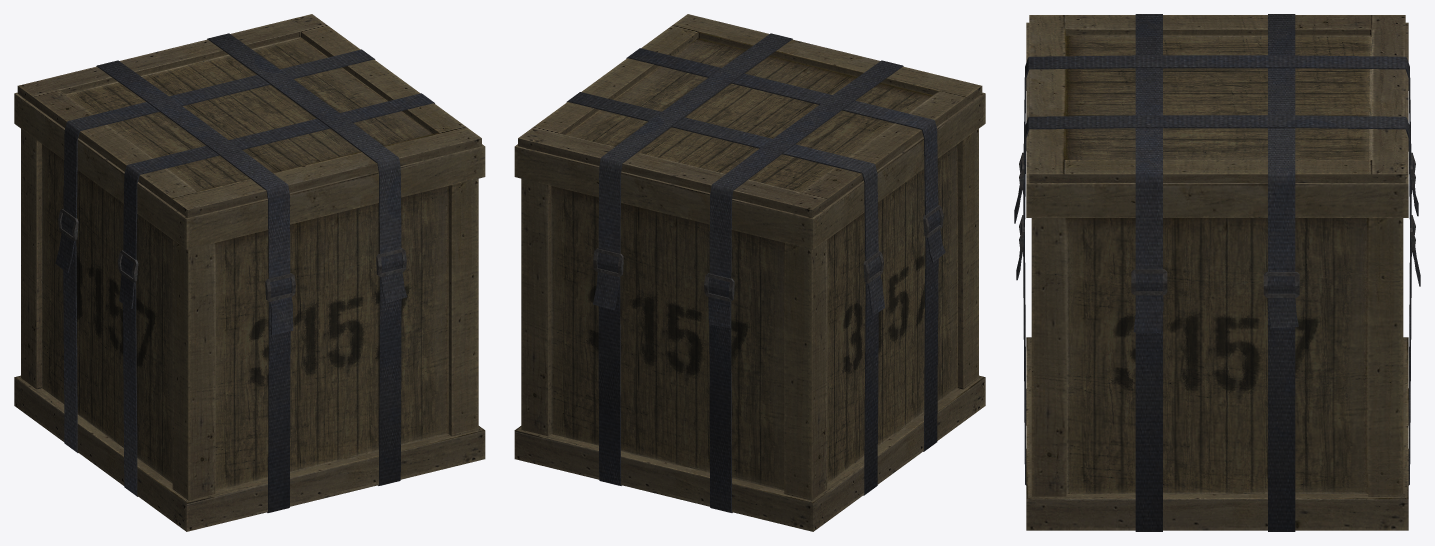
Rendered from wooden_crate_hx_5.obj.
3 renders of one model, left to right at view 1: azimuth 30°, elevation 25°; view 2: azimuth 150°, elevation 25°; view 3: azimuth 270°, elevation 25°, orthographic. The views are drawn at different scales.
Visible parts, largest first — view 1: wooden_crate_hx_5; view 2: wooden_crate_hx_5; view 3: wooden_crate_hx_5.
Part boxes in pixels (x1,y1,x2,y2): wooden_crate_hx_5: [14, 14, 485, 531]; wooden_crate_hx_5: [514, 14, 985, 531]; wooden_crate_hx_5: [1014, 14, 1420, 531].
Bounding box in the file's own units: 1.49 × 1.46 × 1.49.
